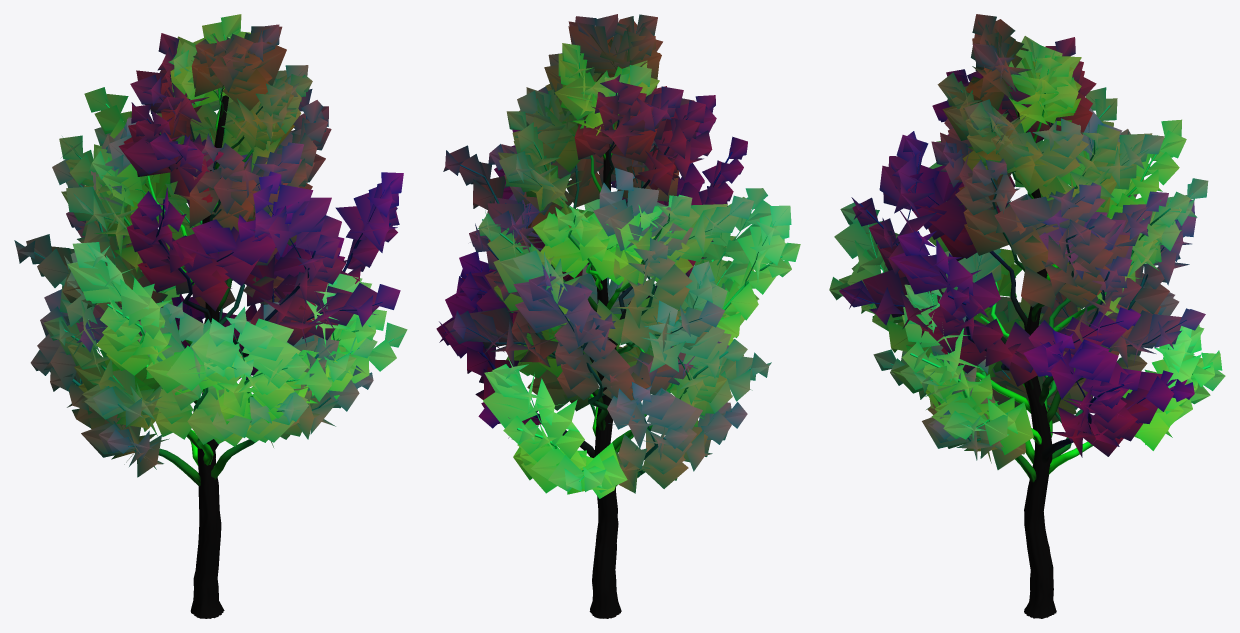
File: SM_FLTree_03.FBX
The picture shows the model from 3 angles, left to right: view 1: azimuth 30°, elevation 25°; view 2: azimuth 150°, elevation 25°; view 3: azimuth 270°, elevation 25°; orthographic projection. The views are drawn at different scales.
Parts seen in each view (by area): view 1: SM_FLTree_03_LOD0; view 2: SM_FLTree_03_LOD0; view 3: SM_FLTree_03_LOD0.
Part boxes in pixels (x1,y1,x2,y2): SM_FLTree_03_LOD0: (14, 14, 407, 618); SM_FLTree_03_LOD0: (436, 14, 800, 618); SM_FLTree_03_LOD0: (829, 14, 1225, 618).
Size of what is drawn, in the model's own units: 527 by 558 by 913.
